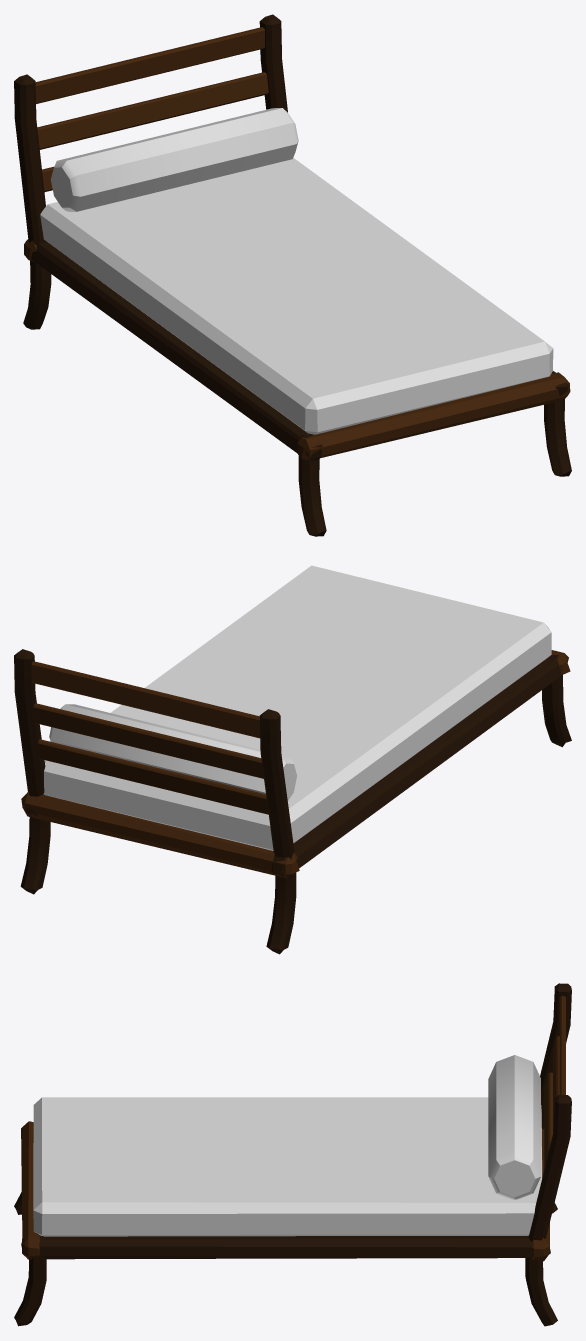
The model's file is Bed.FBX.
The picture shows the model from 3 angles, top to bottom: view 1: azimuth 30°, elevation 25°; view 2: azimuth 150°, elevation 25°; view 3: azimuth 270°, elevation 25°; orthographic projection. The views are drawn at different scales.
Parts seen in each view (by area): view 1: Bed; view 2: Bed; view 3: Bed.
Part boxes in pixels (box(x1,y1,x2,y2)): Bed: box(14, 14, 571, 536); Bed: box(14, 565, 571, 954); Bed: box(14, 983, 571, 1326).
Bounding box in the file's own units: 139 × 120 × 265.
